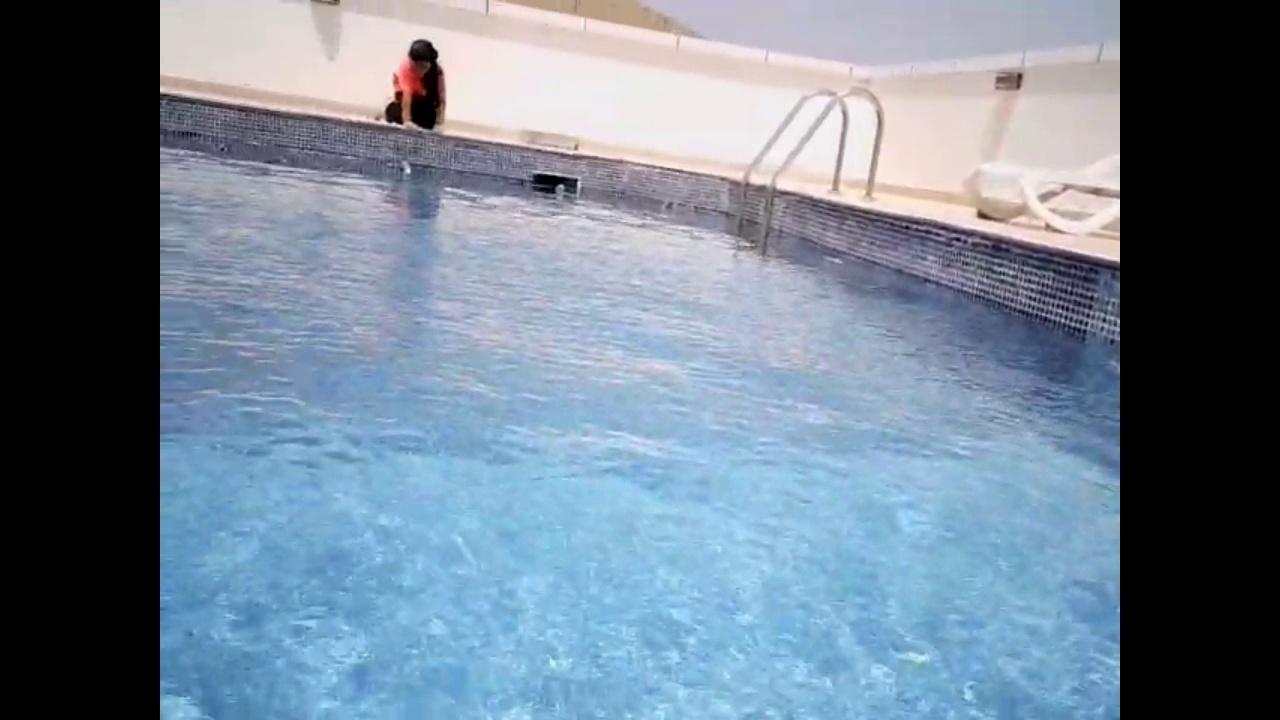debris: (214, 139, 231, 157), (398, 159, 412, 177), (553, 182, 567, 196)
